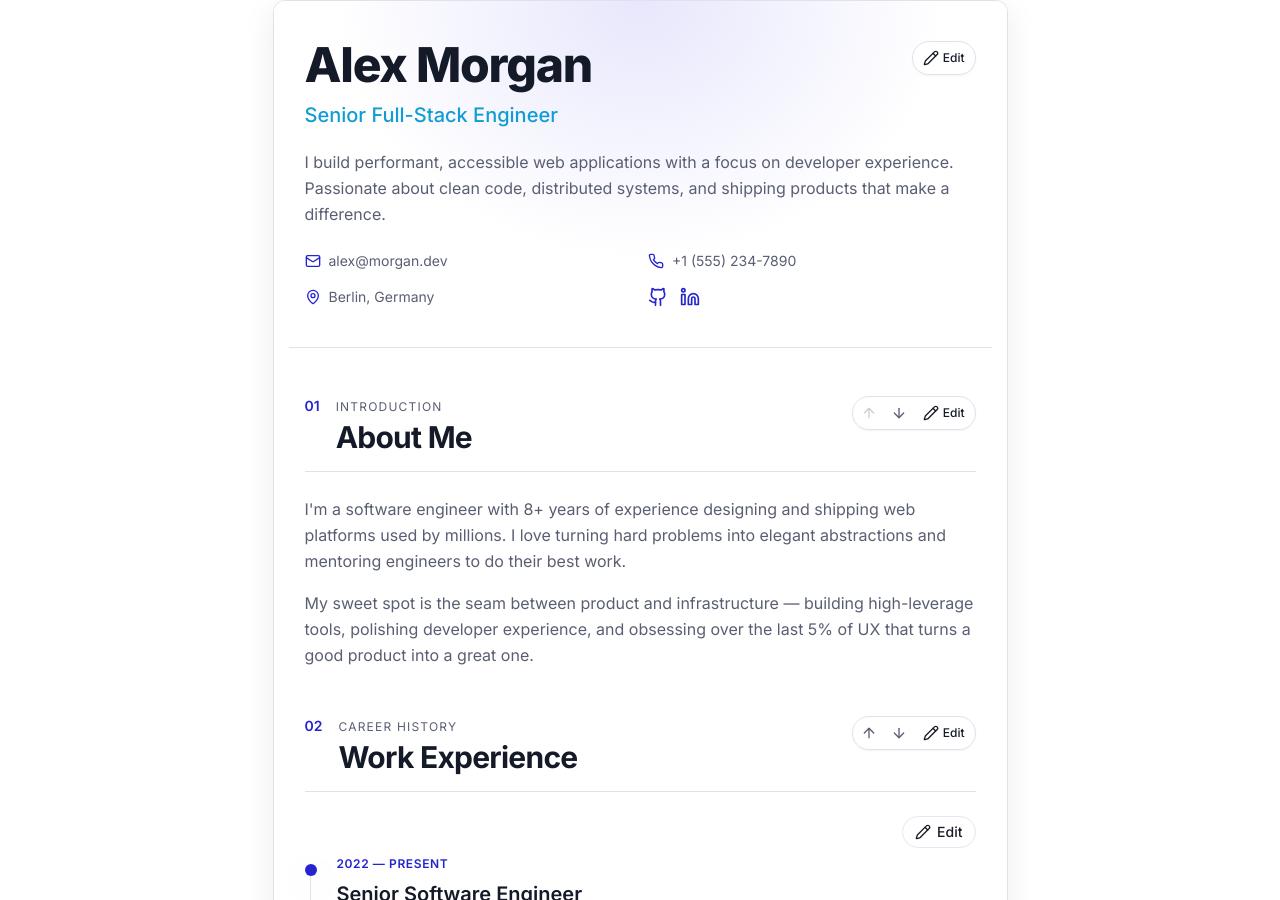
Test: EditableCVPreview › keeps the drawer mounted for the reverse close animation
Later steps or results of the test are not shown.
Click the 3rd button "Edit". click: x=944, y=733
box: [915, 719, 972, 747]
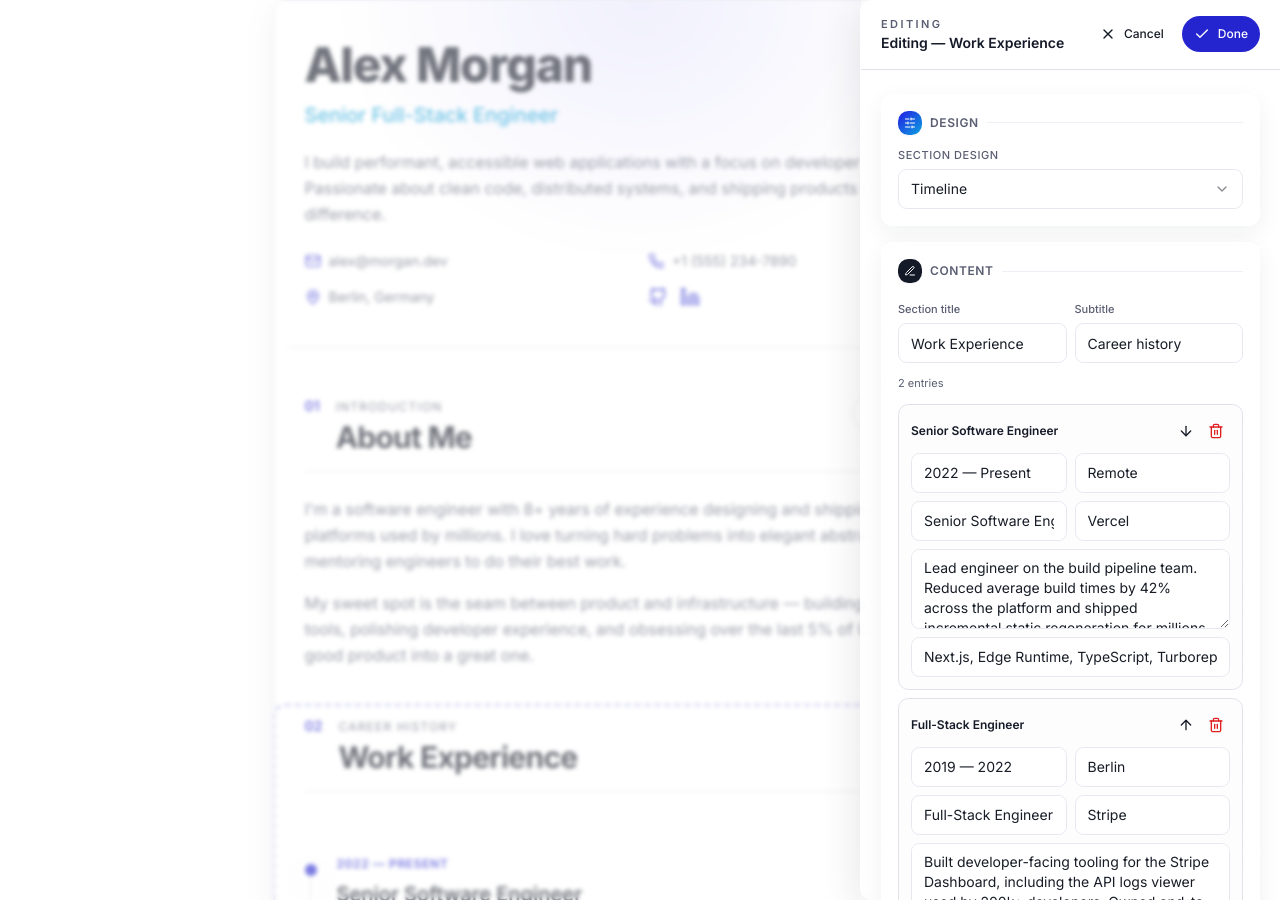
expect the dialog named "Edit Work Experience" is shown: met, box [860, 0, 1279, 899]
Click the button "Done". click: x=1221, y=34
box: [1182, 16, 1260, 52]
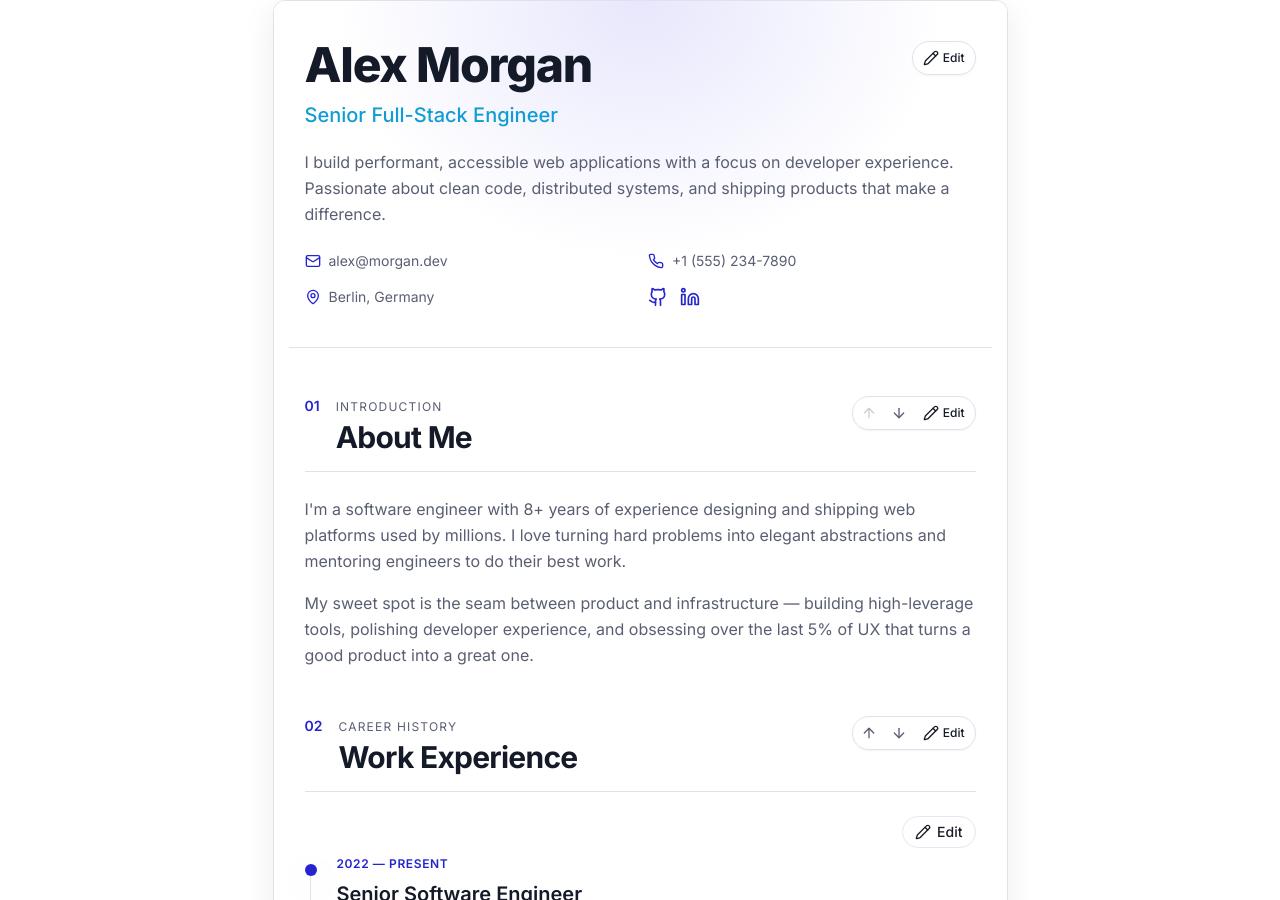
expect the dialog is gone: met
